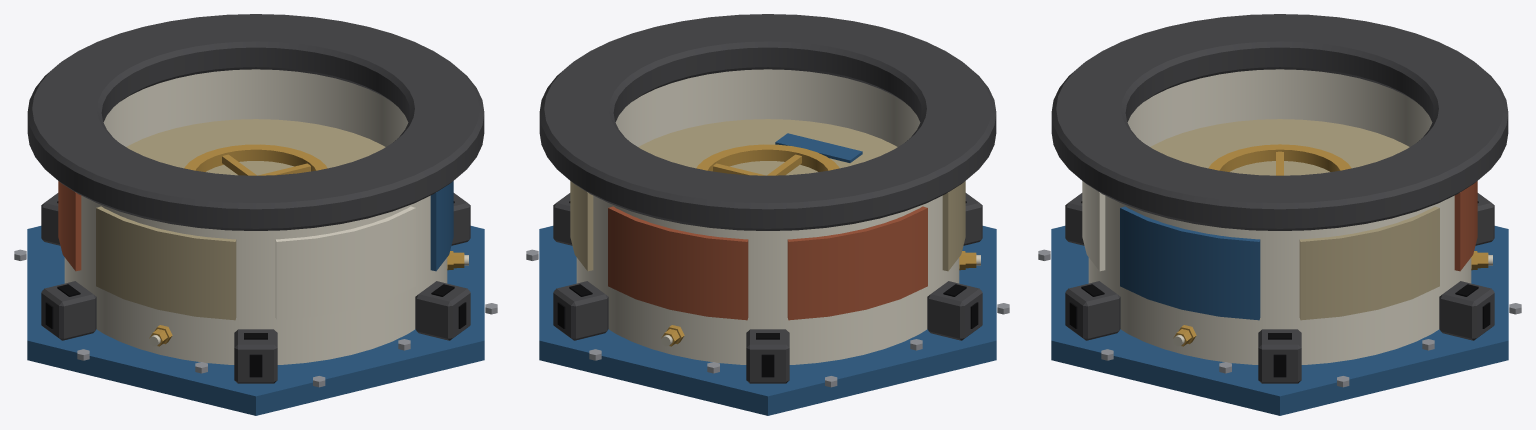
The model's file is collar_frame.obj.
The picture shows the model from 3 angles, left to right: view 1: azimuth 30°, elevation 25°; view 2: azimuth 150°, elevation 25°; view 3: azimuth 270°, elevation 25°; orthographic projection.
Visible parts, largest first — view 1: collar_frame; view 2: collar_frame; view 3: collar_frame.
Part boxes in pixels (left/top/right/bottom): collar_frame: left=14, top=14, right=497, bottom=415; collar_frame: left=526, top=14, right=1009, bottom=415; collar_frame: left=1038, top=14, right=1521, bottom=415.
Bounding box in the file's own units: 1.71 × 0.7 × 1.57.
